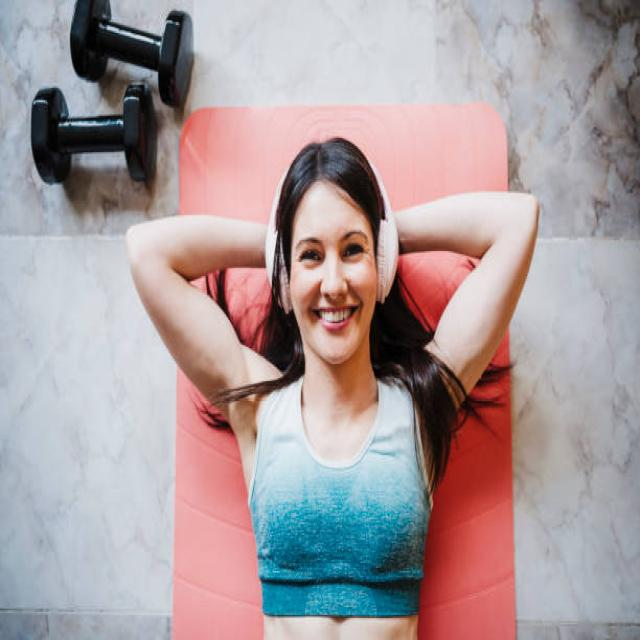Headphone: (266, 162, 401, 314)
